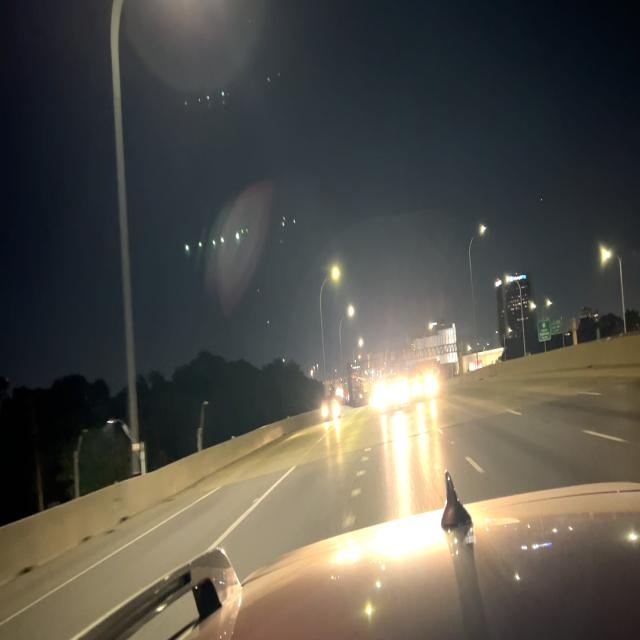back-of-sign: (410, 324, 458, 369)
